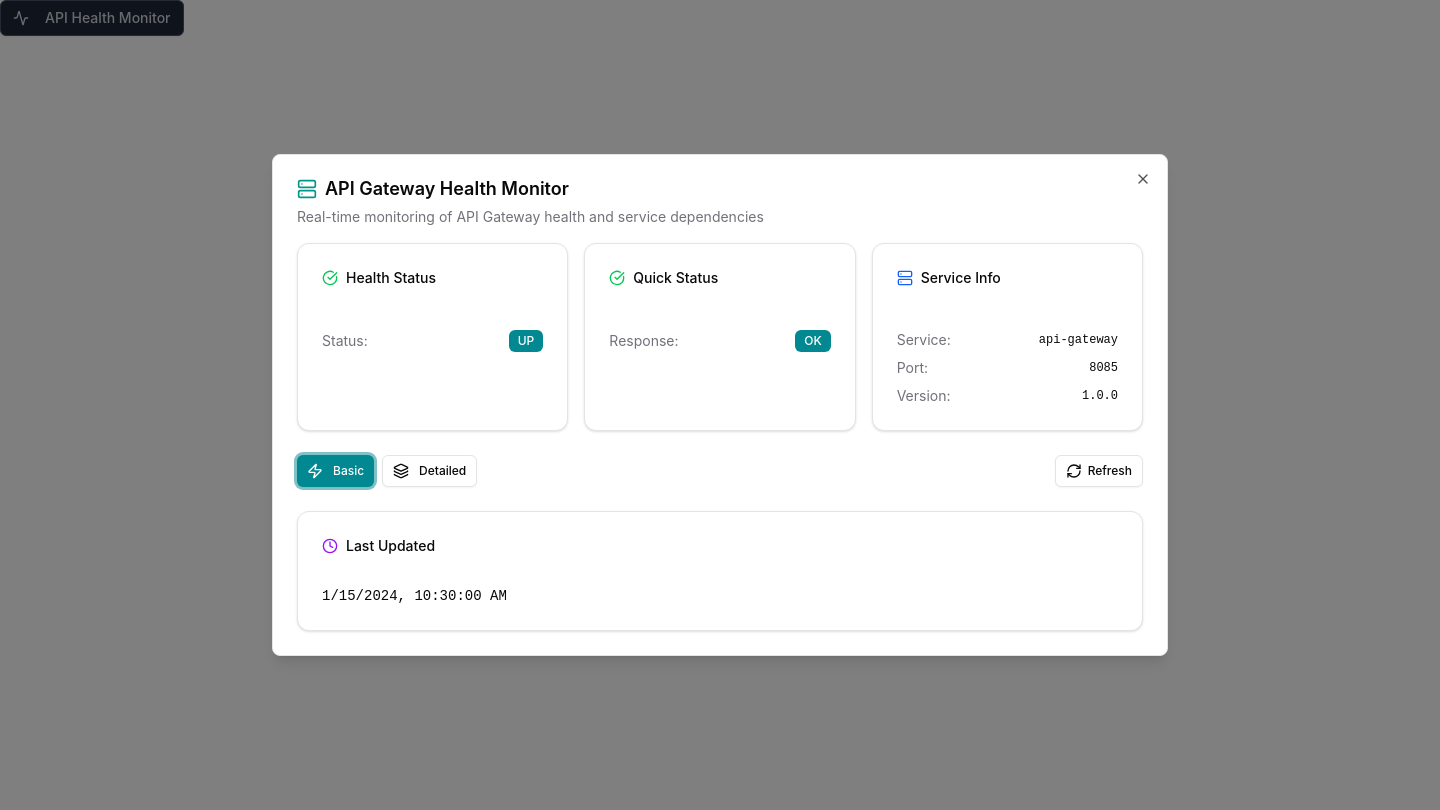
Scenario: ApiDemo Component › switches between basic and detailed views
This screenshot has width=1440, height=810.
Note: Click on detailed button
Click the button "Detailed" at [430, 471], box [382,455,477,487]
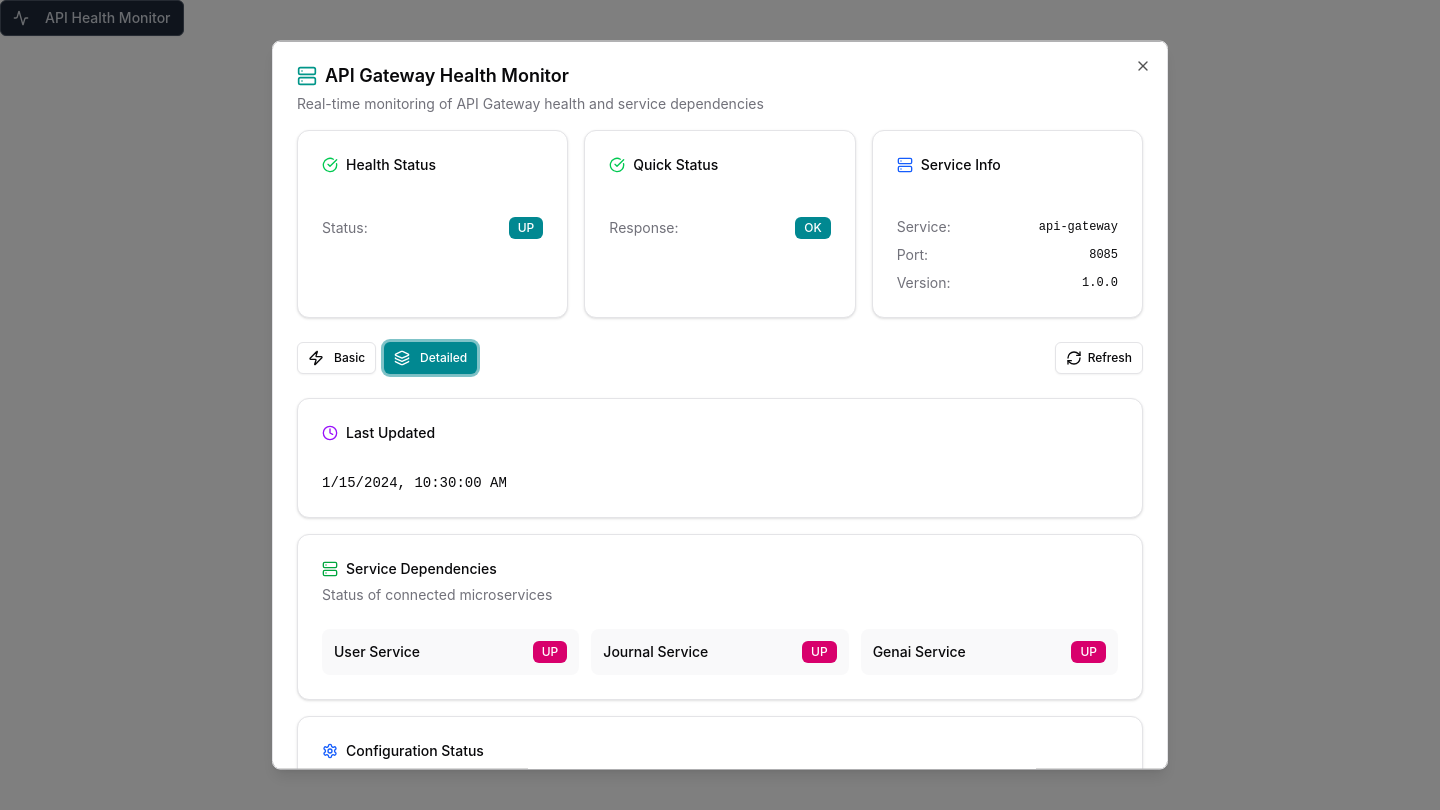
expect the text "Service Dependencies" is shown: met, box [346,558,497,578]
expect the text "Configuration Status" is shown: met, box [346,740,484,760]
